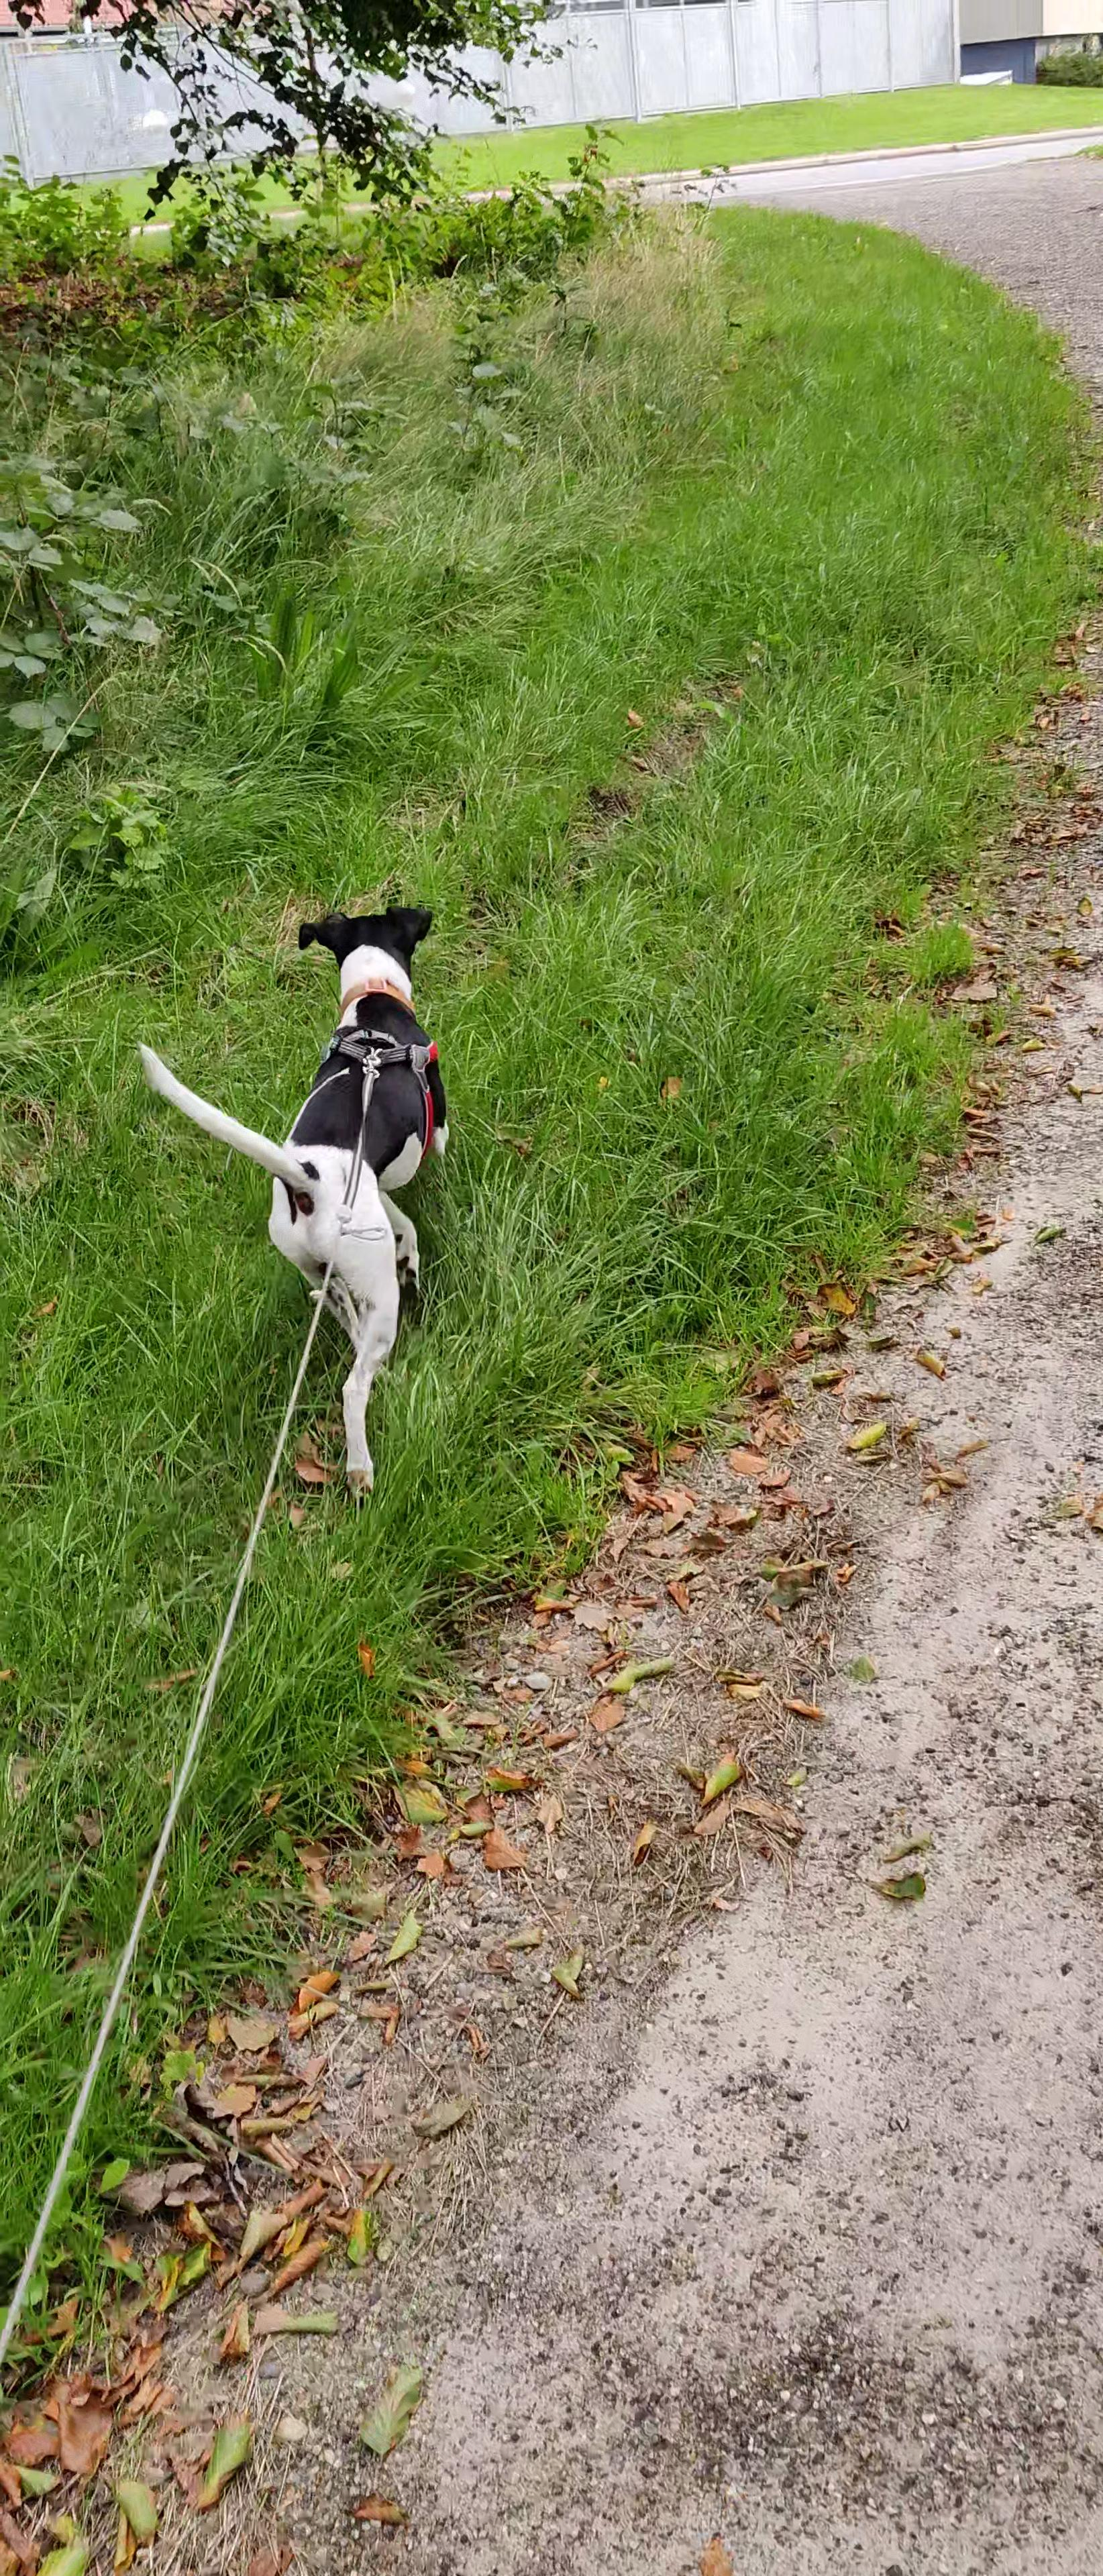Dog: (123, 894, 487, 1520)
